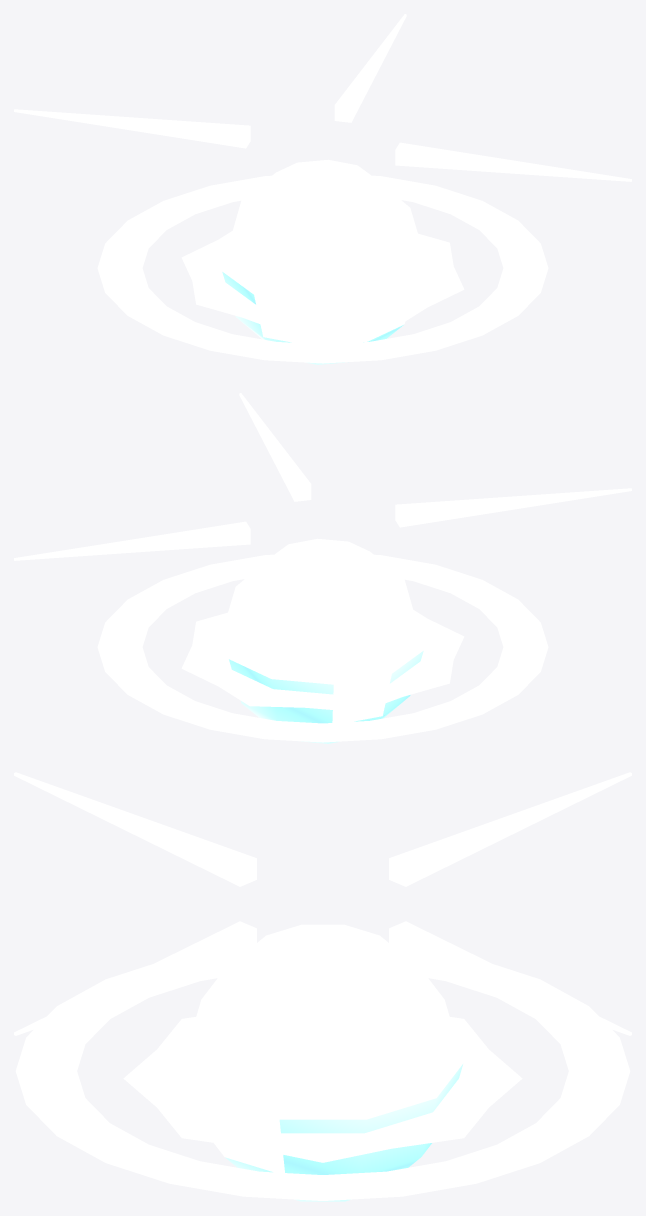
File: white_dwarf.glb
3 renders of one model, top to bottom at view 1: azimuth 30°, elevation 25°; view 2: azimuth 150°, elevation 25°; view 3: azimuth 270°, elevation 25°, orthographic. The views are drawn at different scales.
Parts seen in each view (by area): view 1: body; view 2: body; view 3: body.
Boxes of the visible parts, x1=… form: body: x1=14, y1=14, x2=631, y2=364; body: x1=14, y1=393, x2=631, y2=743; body: x1=14, y1=772, x2=631, y2=1201.
Bounding box in the file's own units: 141 × 74.72 × 141.
